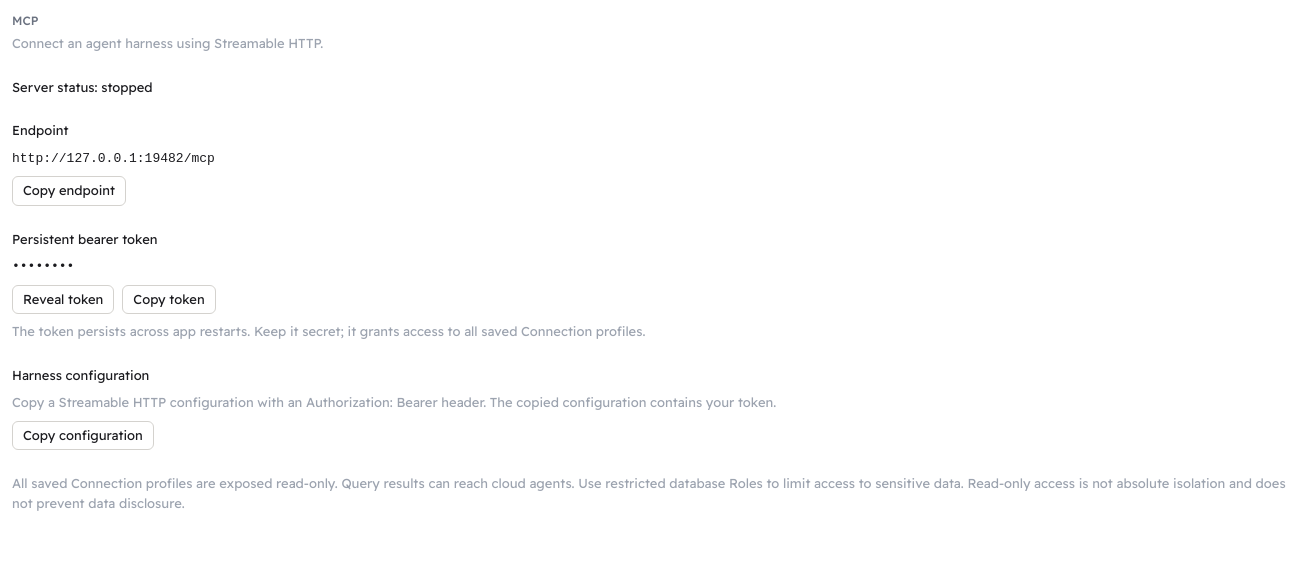
Scenario: reports token and clipboard failures
The image size is (1292, 571).
Click the button "Reveal token": (63, 299) [12, 284, 114, 314]
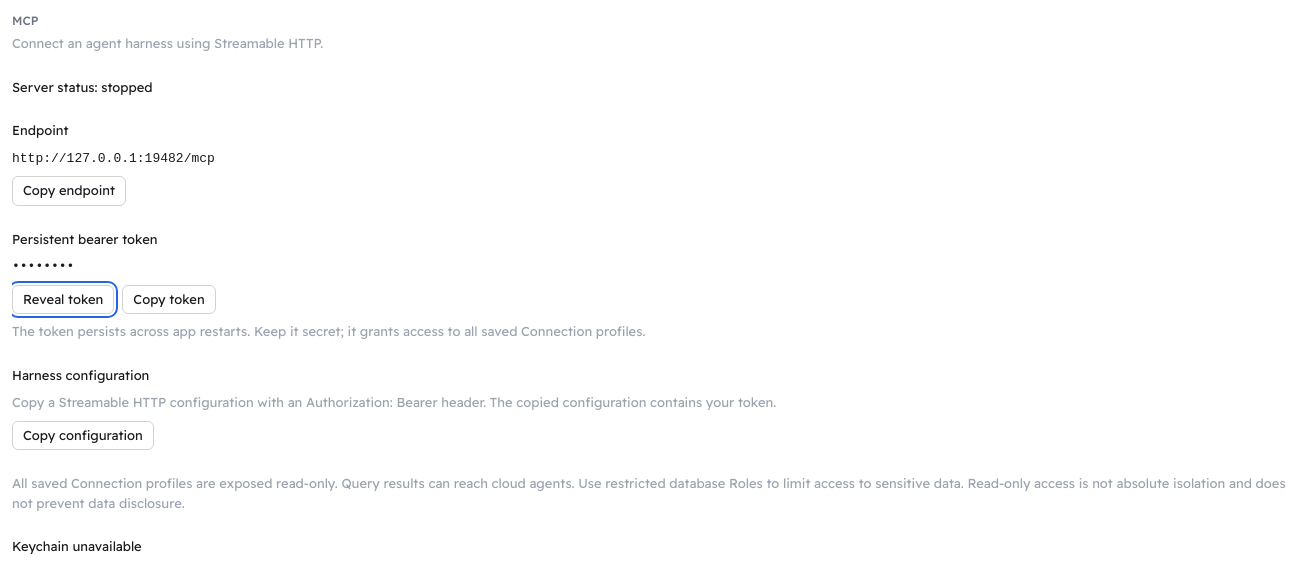
Expected: the text "Keychain unavailable" is shown, [12, 538, 142, 554]
Click the button "Copy token": (169, 299) [122, 284, 216, 314]
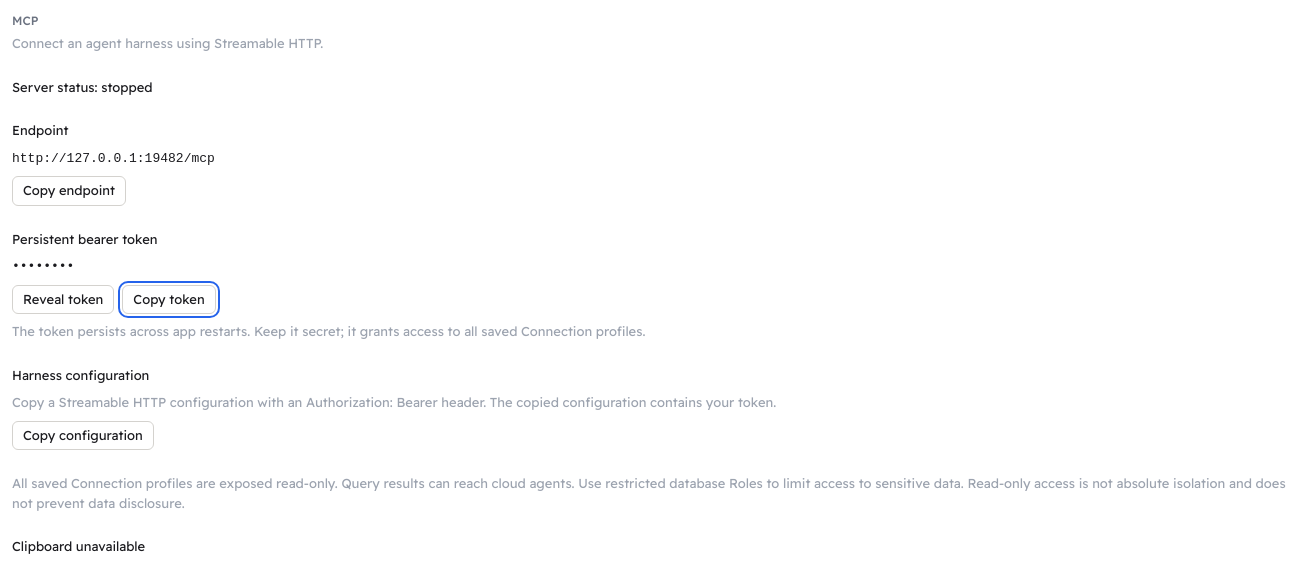
Expected: the message "Clipboard unavailable" is shown, [12, 538, 145, 554]
